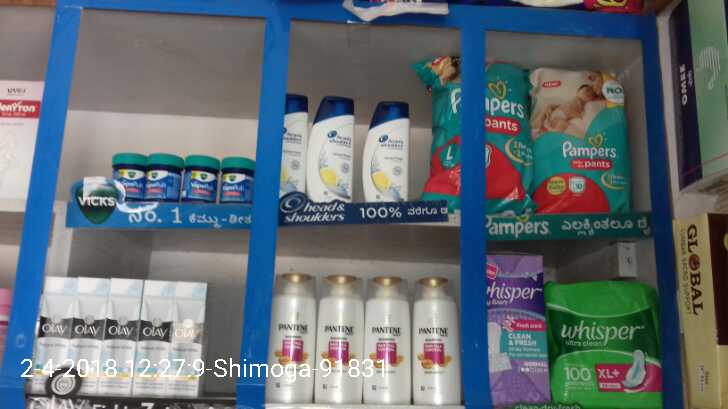vicks: (147, 155, 186, 200), (111, 152, 147, 200), (218, 156, 253, 202), (186, 155, 218, 202)
